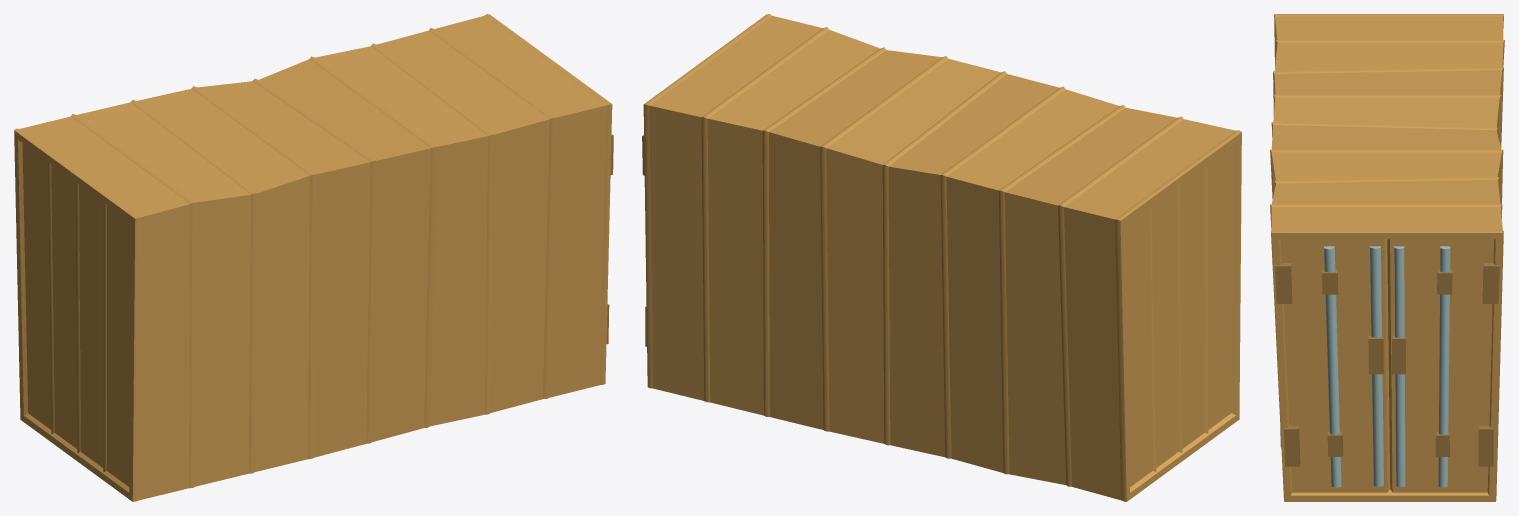
File: BO_Container_03.fbx
3 renders of one model, left to right at view 1: azimuth 30°, elevation 25°; view 2: azimuth 150°, elevation 25°; view 3: azimuth 270°, elevation 25°, orthographic. The views are drawn at different scales.
Visible parts, largest first — view 1: BO_Container_03; view 2: BO_Container_03; view 3: BO_Container_03.
Part boxes in pixels (x1,y1,x2,y2): BO_Container_03: [14, 14, 613, 501]; BO_Container_03: [642, 14, 1241, 501]; BO_Container_03: [1270, 14, 1504, 501].
Size of the model in its own units: 700 by 400 by 315.
